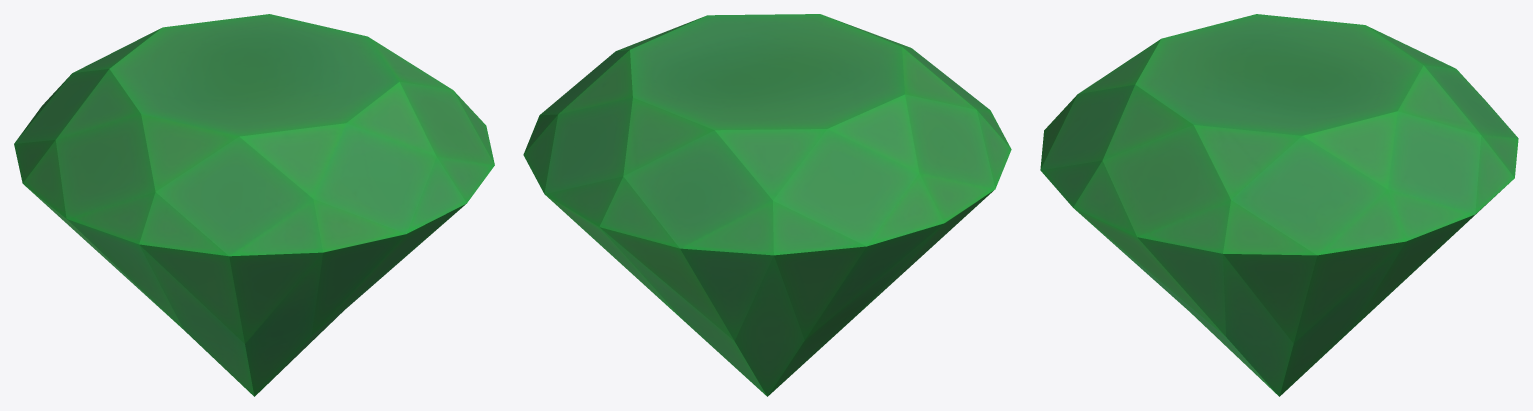
File: Gem.gltf
3 views of the same model, side by side, from view 1: azimuth 30°, elevation 25°; view 2: azimuth 150°, elevation 25°; view 3: azimuth 270°, elevation 25° (orthographic).
Bounding box in the file's own units: 39.39 × 29.27 × 39.39.
Materials: 1 (1 with a texture image).
